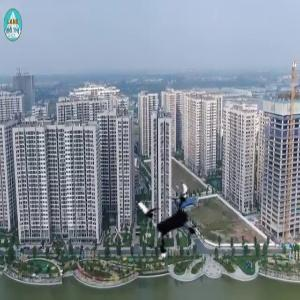drone: (128, 178, 209, 259)
